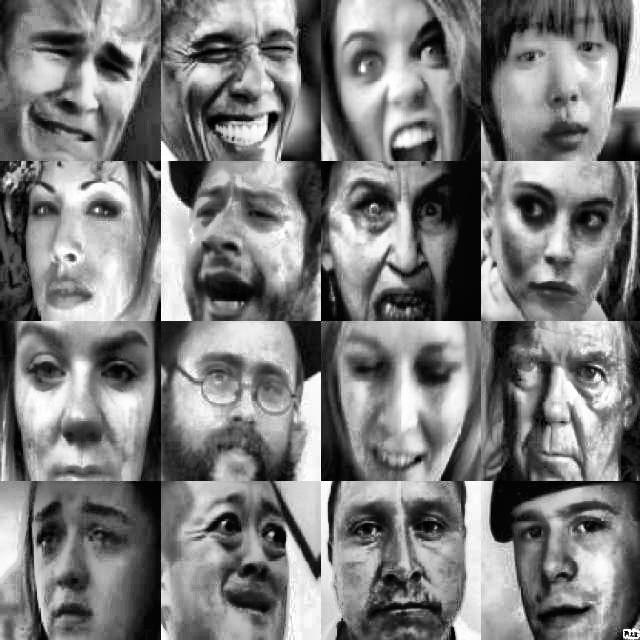angry: (492, 168, 632, 317), (328, 172, 466, 320), (494, 329, 632, 477), (333, 17, 471, 159)
fear: (169, 486, 307, 640)
happy: (484, 482, 640, 637), (169, 19, 313, 165)
neutral: (322, 479, 476, 639), (162, 332, 313, 476), (14, 176, 138, 322)
sad: (320, 325, 476, 473), (173, 167, 310, 323), (19, 489, 156, 637), (492, 5, 623, 159), (9, 11, 143, 157), (11, 333, 148, 473)
